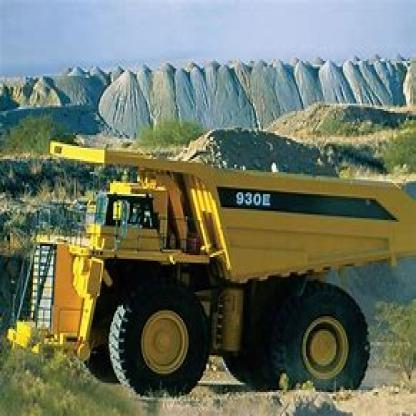dump_truck: (4, 120, 415, 394)
